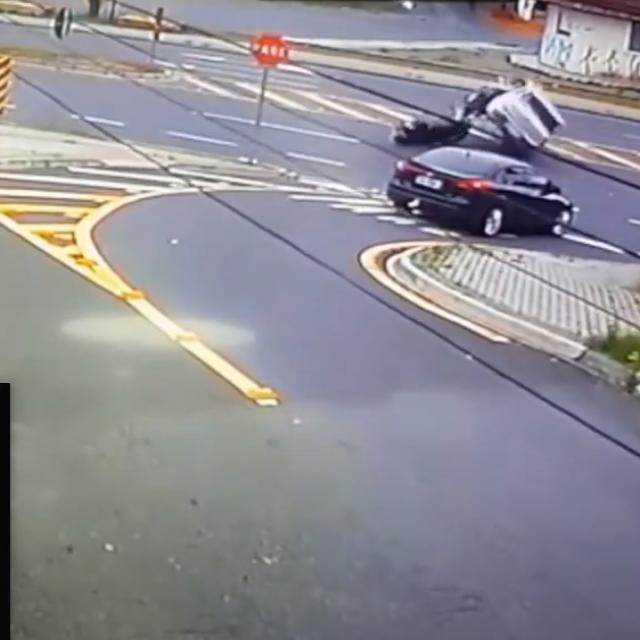accident: (389, 85, 563, 151)
